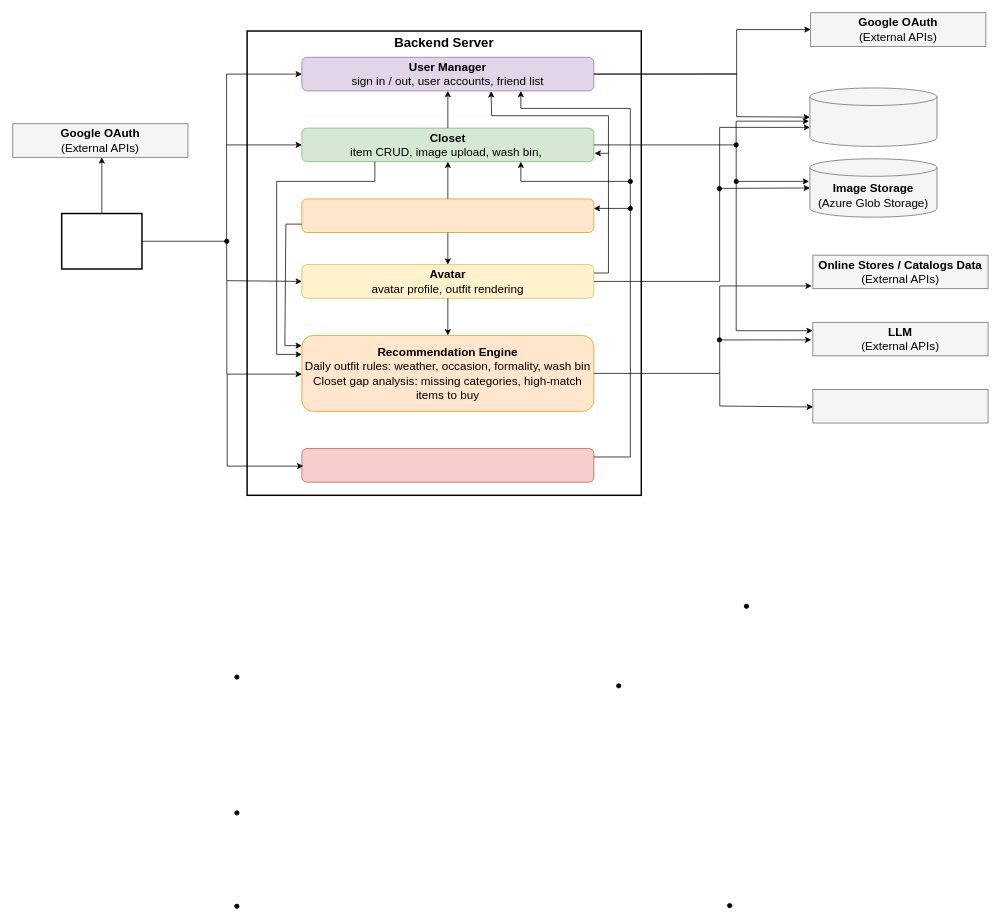
The diagram is 1001 pixels wide and 921 high, and some of its shapes have lost their labels. The centre of each missing label's shape, as x and y in pixels:
"Database (MongoDB)" goes at pixel 873 116.
"Frontend" goes at pixel 101 240.
"Outfit item matching and storage" goes at pixel 447 215.
"Social & Rooms daily posts, ratings, live shared outfit rooms" goes at pixel 447 465.
"Weather Data (External APIs)" goes at pixel 900 406.
